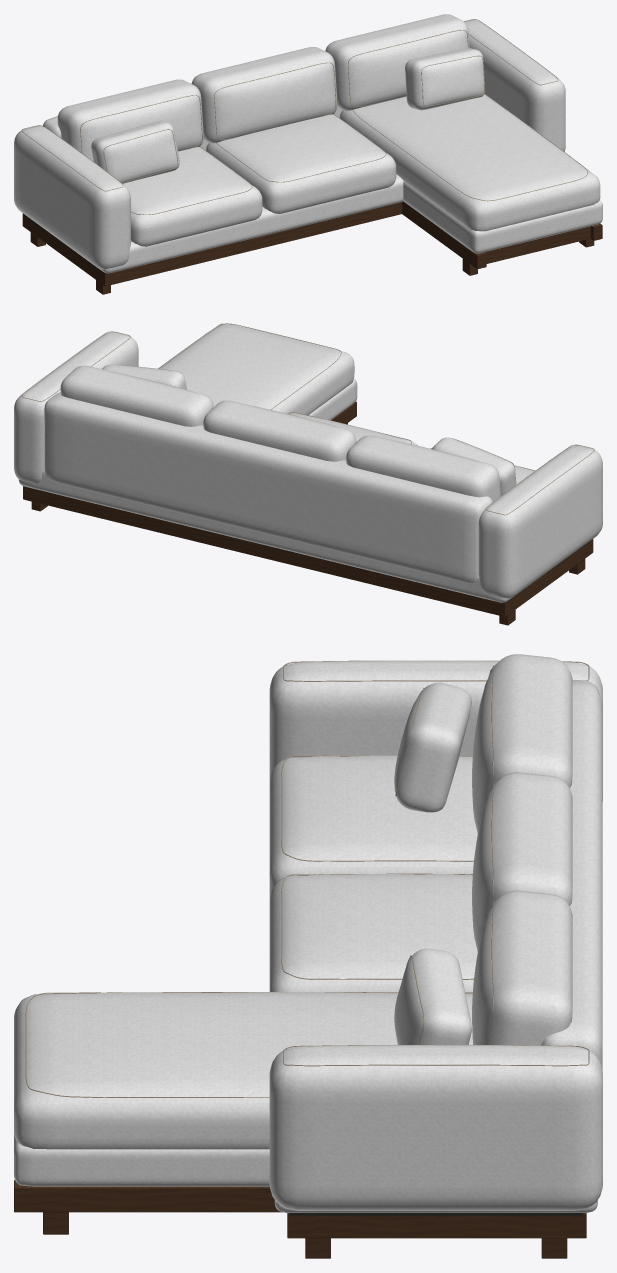
File: arc-chaise.glb
The picture shows the model from 3 angles, top to bottom: view 1: azimuth 30°, elevation 25°; view 2: azimuth 150°, elevation 25°; view 3: azimuth 270°, elevation 25°; orthographic projection. The views are drawn at different scales.
Visible parts, largest first — view 1: Seat panel 3 | crowned top, Seat panel 2 | crowned top, Tailored arm | left, Back cushion 2 | tensioned face, Seat panel 1 | crowned top, Back cushion 3 | tensioned face, Back cushion 1 | tensioned face, Tailored arm | right, Upholstered support platform, Chaise | independent extended support, Lumbar cushion | right, Lumbar cushion | left (+5 smaller); view 2: Continuous upholstered rear rail, Tailored arm | left, Seat panel 3 | crowned top, Walnut | long rail.001, Upholstered support platform, Back cushion 1 | tensioned face, Back cushion 2 | tensioned face, Back cushion 3 | tensioned face, Tailored arm | right, Lumbar cushion | left, Walnut | return rail, Lumbar cushion | right (+2 smaller); view 3: Tailored arm | right, Seat panel 3 | crowned top, Seat panel 2 | crowned top, Seat panel 1 | crowned top, Tailored arm | left, Back cushion 3 | tensioned face, Continuous upholstered rear rail, Back cushion 1 | tensioned face, Back cushion 2 | tensioned face, Chaise | independent extended support, Lumbar cushion | left, Chaise | longitudinal walnut rail.001 (+6 smaller).
Boxes of the visible parts, bbox=[...] form: Seat panel 3 | crowned top: bbox=[339, 94, 600, 231]; Seat panel 2 | crowned top: bbox=[206, 114, 396, 213]; Tailored arm | left: bbox=[14, 126, 130, 269]; Back cushion 2 | tensioned face: bbox=[191, 47, 337, 143]; Seat panel 1 | crowned top: bbox=[123, 147, 262, 246]; Back cushion 3 | tensioned face: bbox=[325, 14, 469, 110]; Back cushion 1 | tensioned face: bbox=[57, 79, 203, 161]; Tailored arm | right: bbox=[464, 19, 565, 151]; Upholstered support platform: bbox=[98, 174, 403, 273]; Chaise | independent extended support: bbox=[403, 181, 602, 253]; Lumbar cushion | right: bbox=[405, 48, 484, 110]; Lumbar cushion | left: bbox=[91, 120, 179, 183]; Continuous upholstered rear rail: bbox=[44, 392, 492, 582]; Tailored arm | left: bbox=[478, 445, 602, 598]; Seat panel 3 | crowned top: bbox=[158, 323, 354, 415]; Walnut | long rail.001: bbox=[23, 486, 513, 616]; Upholstered support platform: bbox=[18, 469, 512, 602]; Back cushion 1 | tensioned face: bbox=[346, 435, 500, 501]; Back cushion 2 | tensioned face: bbox=[203, 400, 356, 461]; Back cushion 3 | tensioned face: bbox=[60, 365, 213, 426]; Tailored arm | right: bbox=[14, 332, 138, 483]; Lumbar cushion | left: bbox=[432, 437, 516, 495]; Walnut | return rail: bbox=[513, 545, 585, 610]; Lumbar cushion | right: bbox=[102, 364, 186, 389]; Tailored arm | right: bbox=[269, 1045, 602, 1210]; Seat panel 3 | crowned top: bbox=[14, 992, 472, 1149]; Seat panel 2 | crowned top: bbox=[269, 874, 477, 993]; Seat panel 1 | crowned top: bbox=[269, 755, 477, 896]; Tailored arm | left: bbox=[269, 661, 602, 801]; Back cushion 3 | tensioned face: bbox=[472, 890, 572, 1045]; Continuous upholstered rear rail: bbox=[541, 680, 602, 1069]; Back cushion 1 | tensioned face: bbox=[472, 654, 572, 833]; Back cushion 2 | tensioned face: bbox=[472, 772, 572, 951]; Chaise | independent extended support: bbox=[14, 1134, 269, 1186]; Lumbar cushion | left: bbox=[394, 682, 471, 812]; Chaise | longitudinal walnut rail.001: bbox=[14, 1180, 282, 1212].
Bounding box in the file's own units: 3.04 × 0.8154 × 1.82.
4 materials, 2 textured.
